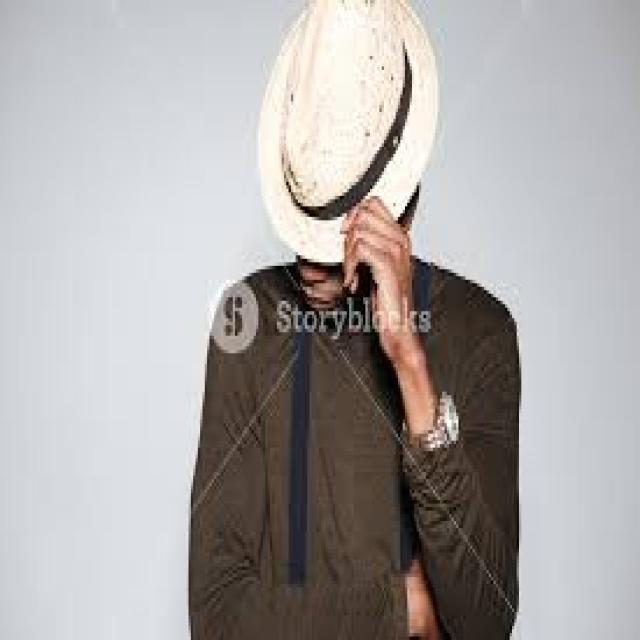hat: (256, 0, 438, 322)
